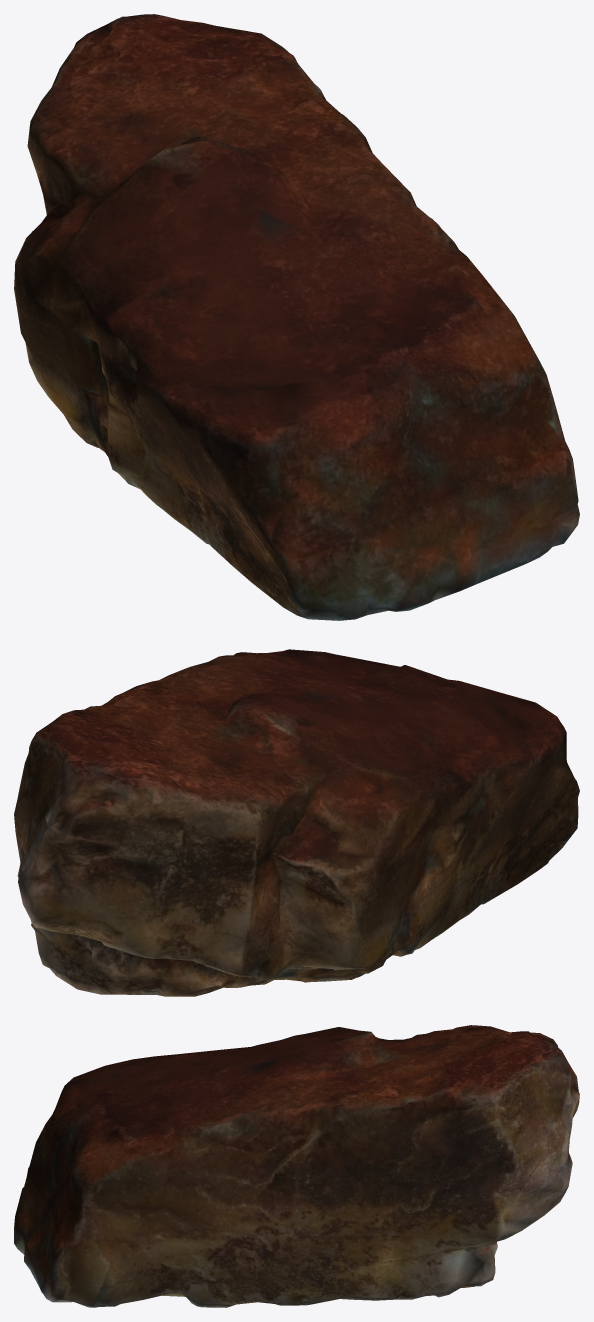
Rendered from rock_07.glb.
The picture shows the model from 3 angles, top to bottom: view 1: azimuth 30°, elevation 25°; view 2: azimuth 150°, elevation 25°; view 3: azimuth 270°, elevation 25°; orthographic projection. The views are drawn at different scales.
Visible parts, largest first — view 1: rock_07; view 2: rock_07; view 3: rock_07.
Part boxes in pixels (x1=…): rock_07: x1=14, y1=14, x2=579, y2=620; rock_07: x1=14, y1=649, x2=579, y2=996; rock_07: x1=14, y1=1025, x2=579, y2=1307.
Size of the model in its own units: 0.1681 by 0.1437 by 0.3199.
Materials: 1 (1 with a texture image).
